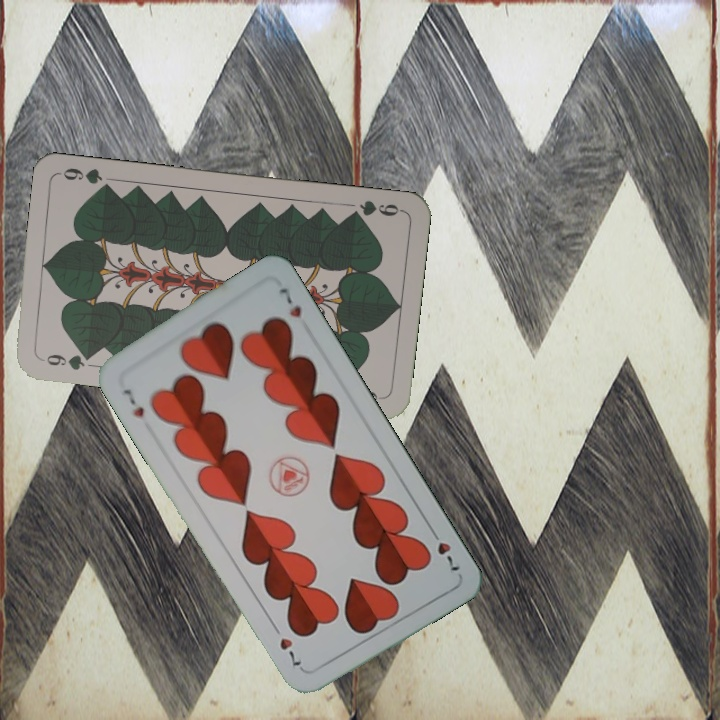G9: (345, 196, 405, 221), (37, 349, 97, 373)
H7: (425, 523, 463, 576), (119, 384, 147, 420)
